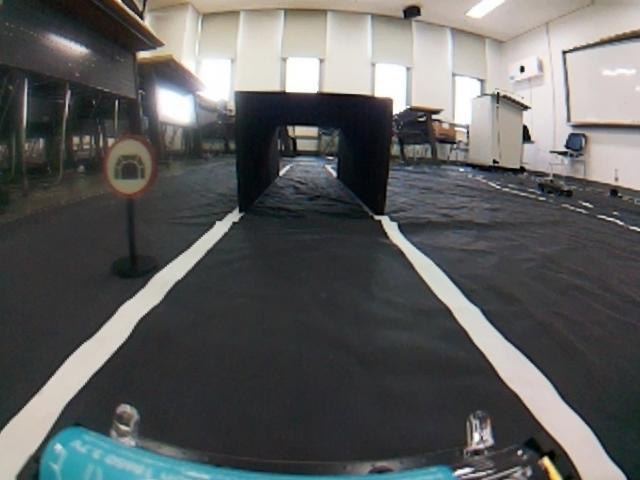sign_tunnel: (103, 137, 158, 196)
straight: (0, 212, 634, 473)
